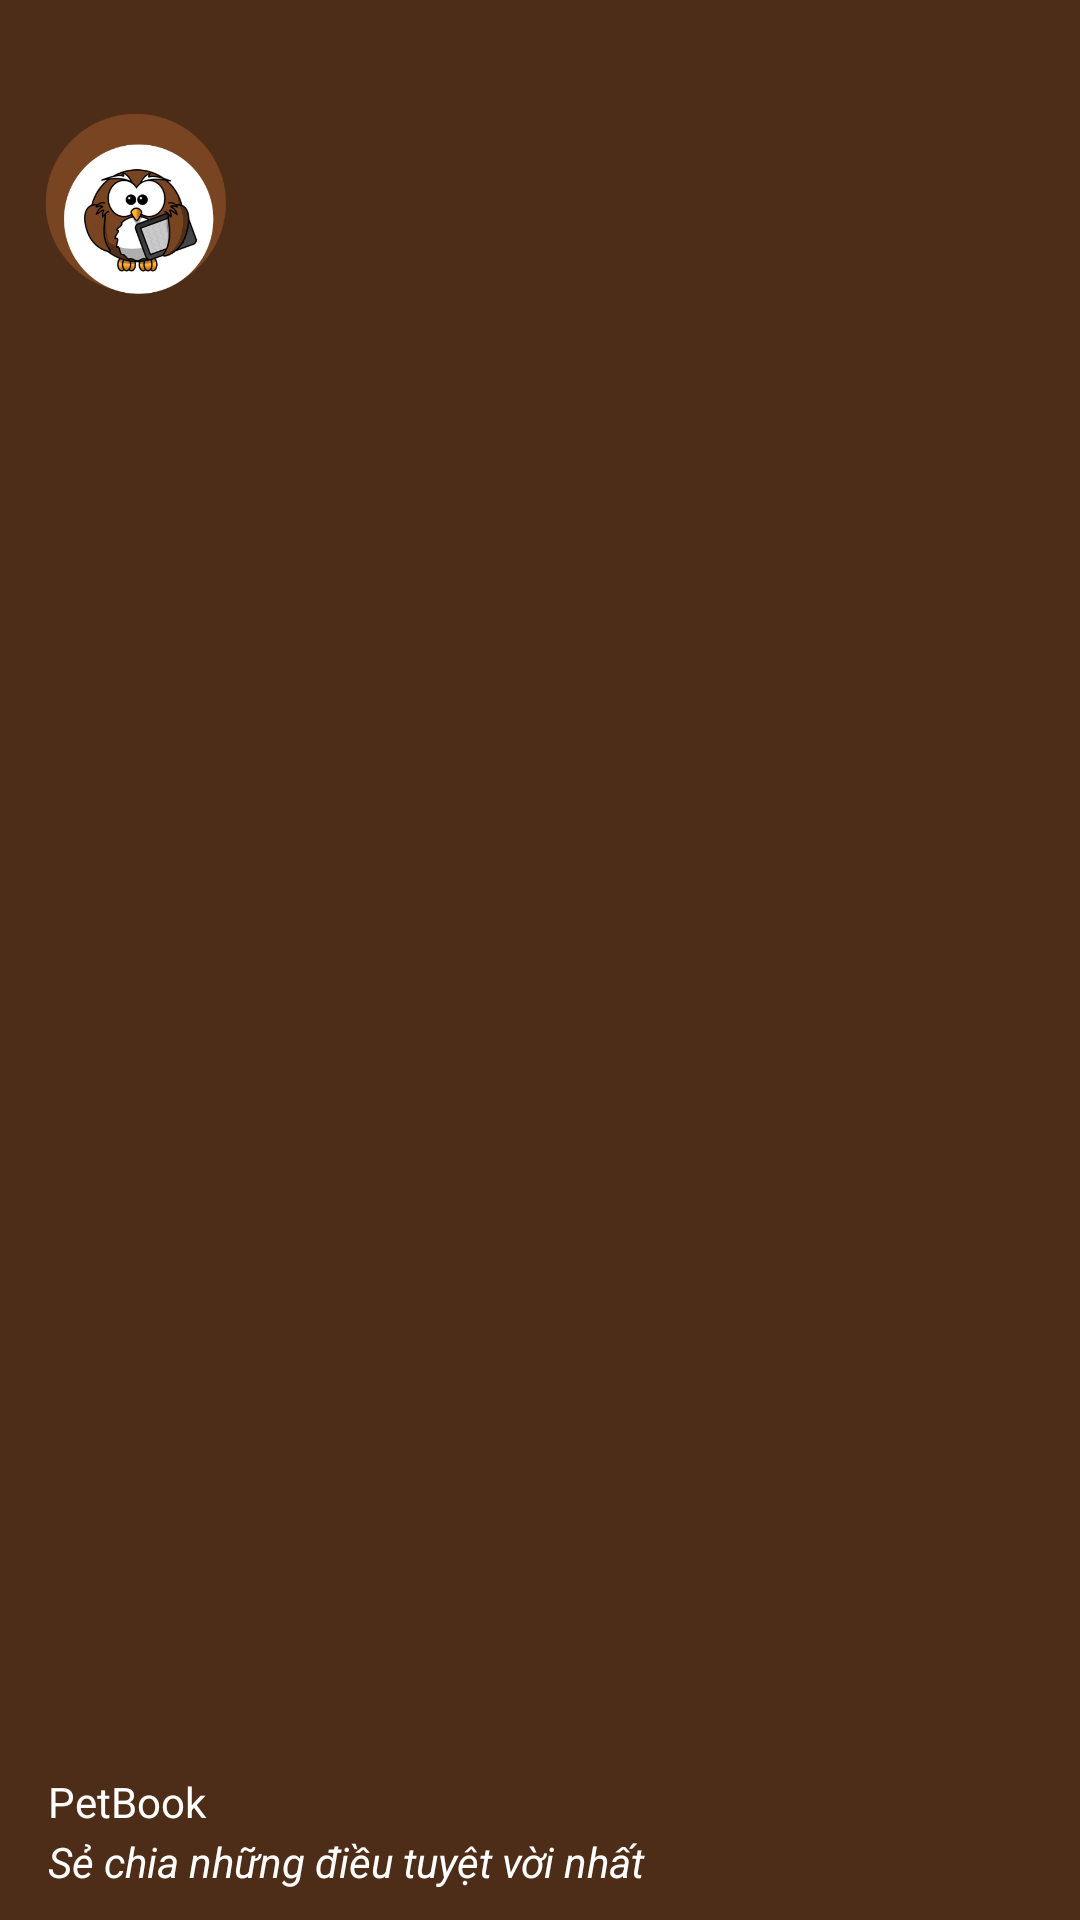

Icon click points for this 1080px x 1920px phone screenshot, format point (x, y):
petbook: point (136, 204)
